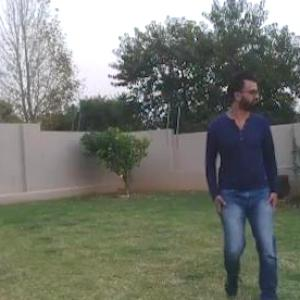follow: (202, 49, 287, 299)
